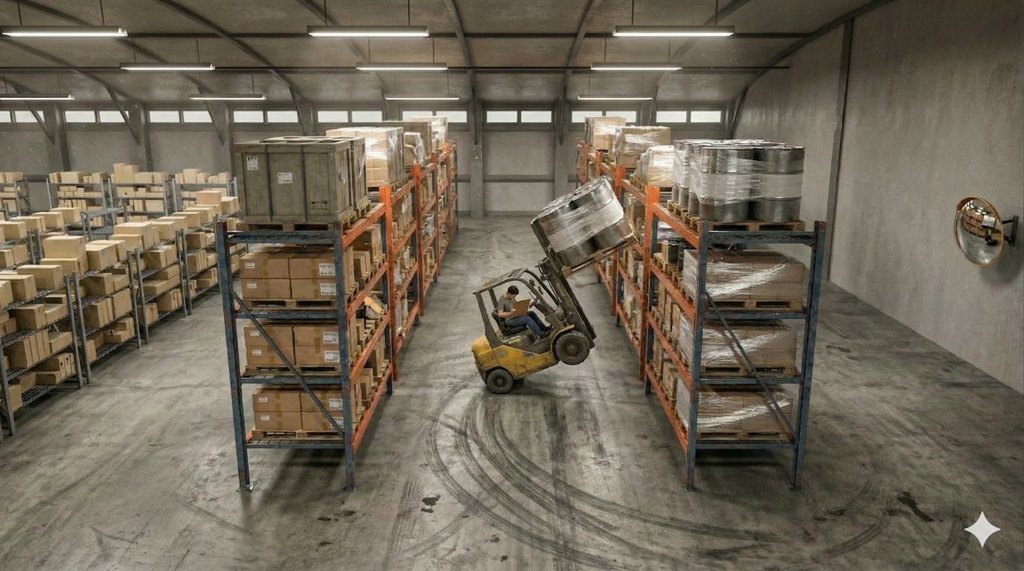forklift: (454, 227, 627, 400)
person: (497, 286, 551, 342)
